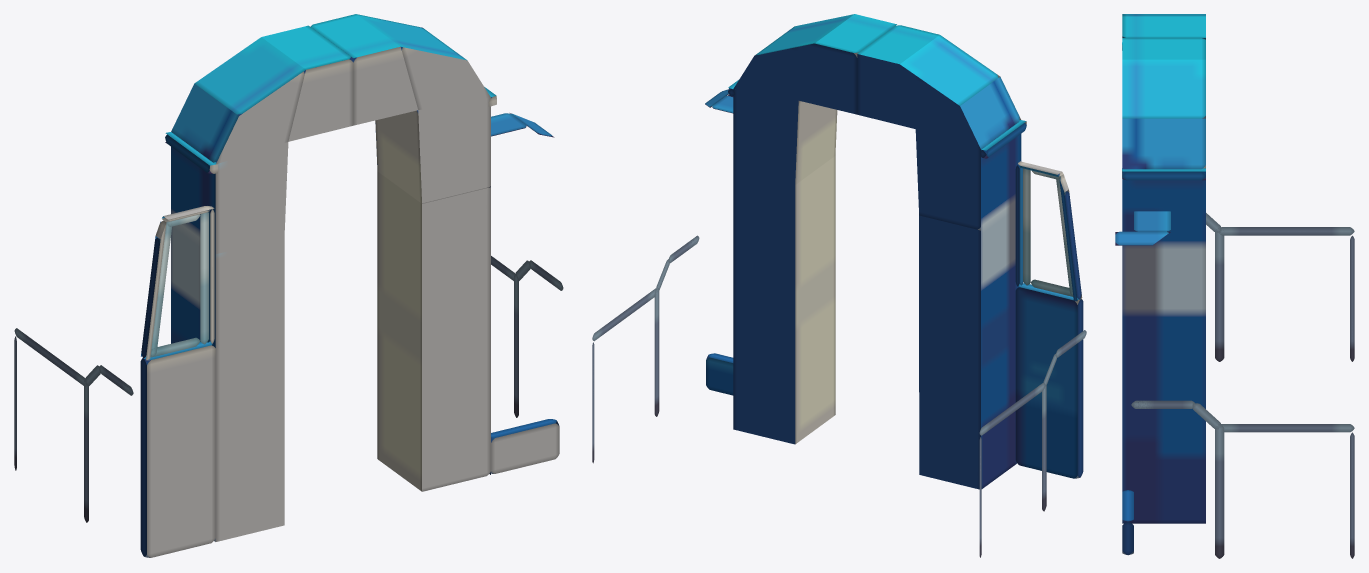
Rendered from df5_head_end_face_2.obj.
The picture shows the model from 3 angles, left to right: view 1: azimuth 30°, elevation 25°; view 2: azimuth 150°, elevation 25°; view 3: azimuth 270°, elevation 25°; orthographic projection. The views are drawn at different scales.
Parts seen in each view (by area): view 1: cuboid_selection_selection_selection_selection; view 2: cuboid_selection_selection_selection_selection; view 3: cuboid_selection_selection_selection_selection.
Part boxes in pixels (x1,y1,x2,y2): cuboid_selection_selection_selection_selection: [14, 14, 563, 557]; cuboid_selection_selection_selection_selection: [592, 14, 1086, 557]; cuboid_selection_selection_selection_selection: [1115, 14, 1354, 558].
Bounding box in the file's own units: 3.13 × 3.13 × 1.61.
